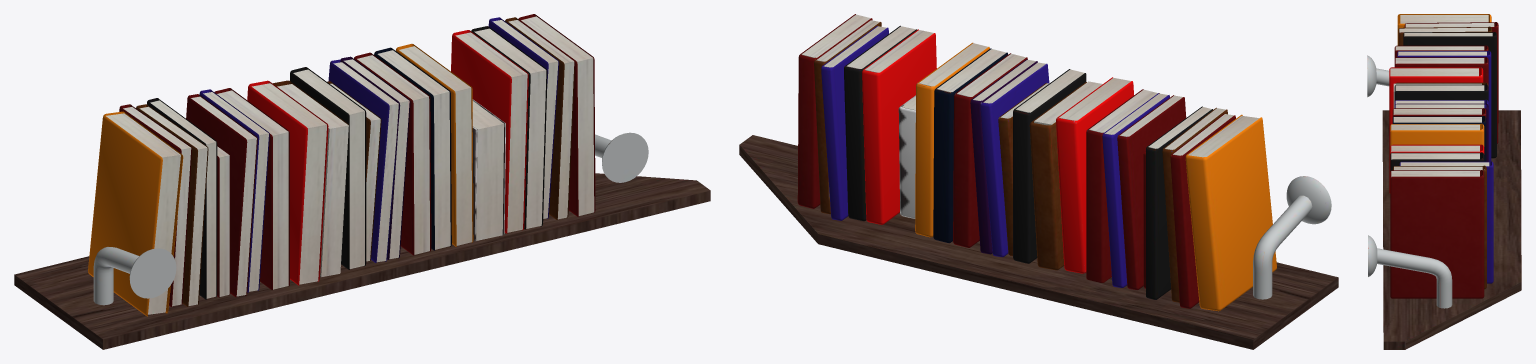
The model's file is books.glb.
The picture shows the model from 3 angles, left to right: view 1: azimuth 30°, elevation 25°; view 2: azimuth 150°, elevation 25°; view 3: azimuth 270°, elevation 25°; orthographic projection. The views are drawn at different scales.
Parts seen in each view (by area): view 1: Box001; view 2: Box001; view 3: Box001.
Boxes of the visible parts, x1,y1,x2,y2 form: Box001: (14, 14, 710, 349); Box001: (739, 14, 1338, 349); Box001: (1367, 14, 1521, 349).
Size of the model in its own units: 2 by 0.5303 by 0.563.
1 material, 1 textured.
